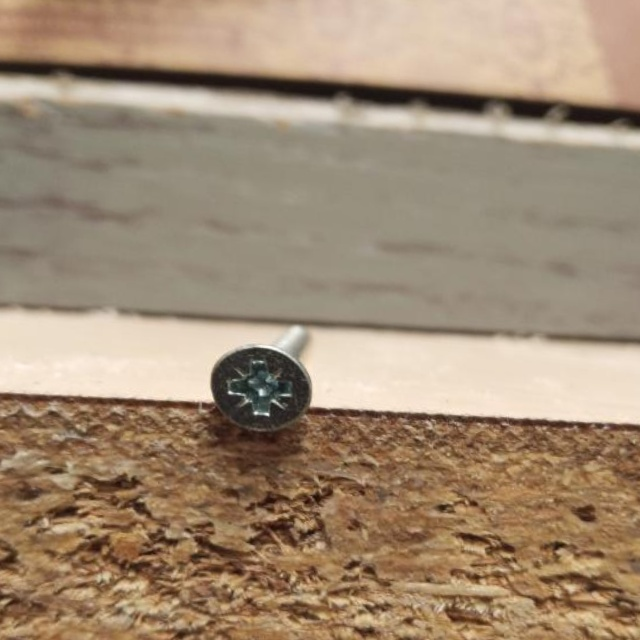pozidriv: (207, 339, 315, 438)
